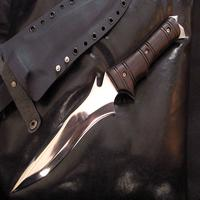knife: (7, 17, 185, 195)
